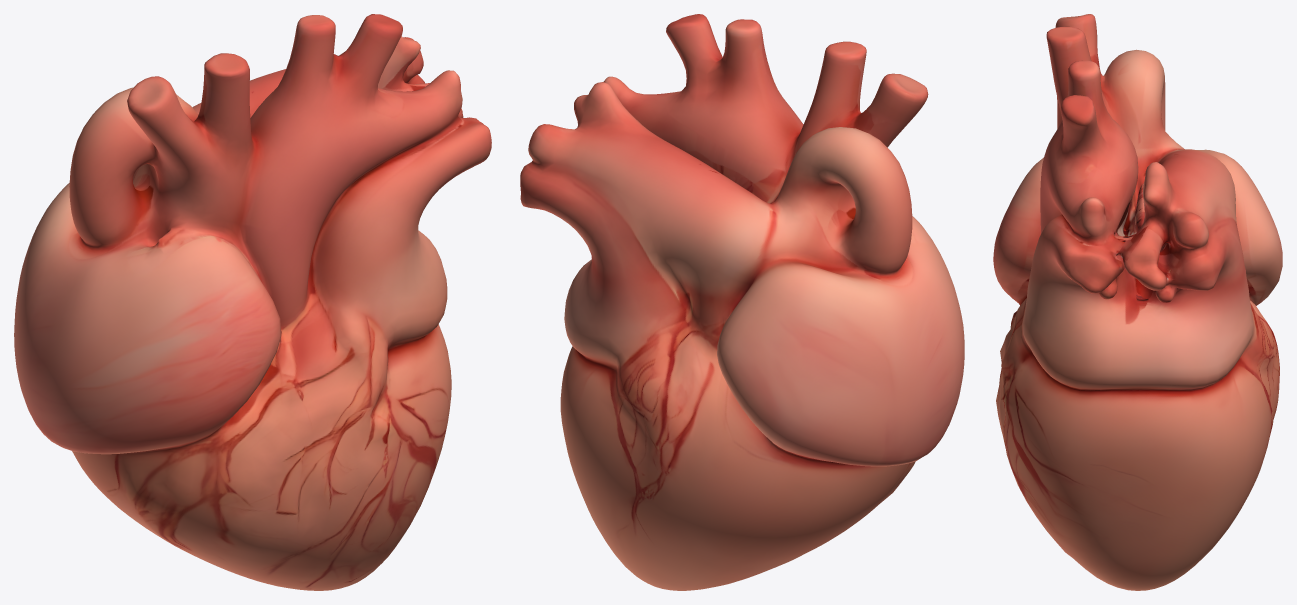
3 views of the same model, side by side, from view 1: azimuth 30°, elevation 25°; view 2: azimuth 150°, elevation 25°; view 3: azimuth 270°, elevation 25° (orthographic). The views are drawn at different scales.
Parts seen in each view (by area): view 1: remeshed; view 2: remeshed; view 3: remeshed.
Part boxes in pixels (<box>): remeshed: <box>14,14,491,590</box>; remeshed: <box>520,14,964,590</box>; remeshed: <box>993,14,1282,590</box>.
Size of the model in its own units: 1.15 by 1.51 by 0.7846.
Materials: 1 (1 with a texture image).
